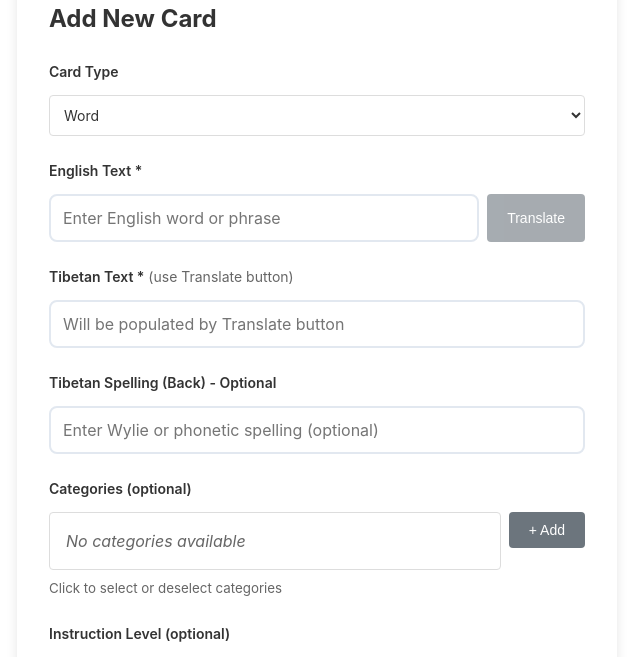
Scenario: AddCardForm › Image Generation - User Story 1 › Button disabled state › enables buttons when text is entered
Select "Word" in the dropdown labelled "Card Type": {"x": 317, "y": 116} [49, 95, 585, 136]
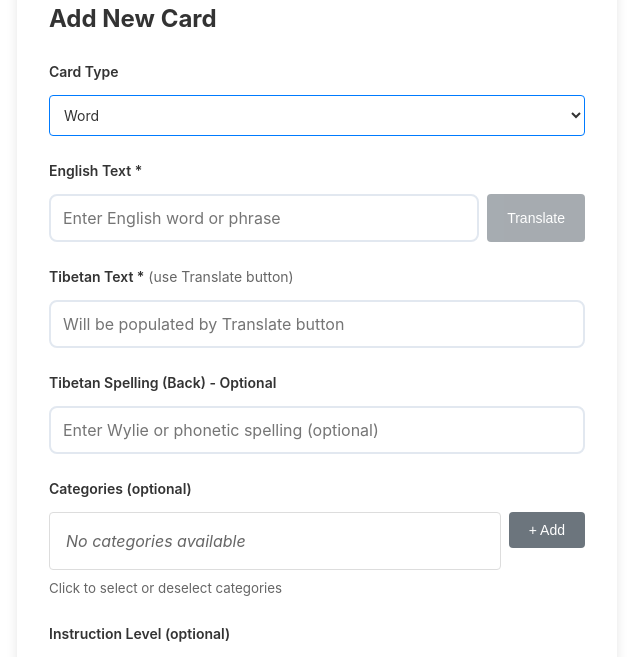
In the field labelled "English Text *": {"x": 264, "y": 218} [49, 194, 479, 242], type "test"
(page scrolled)
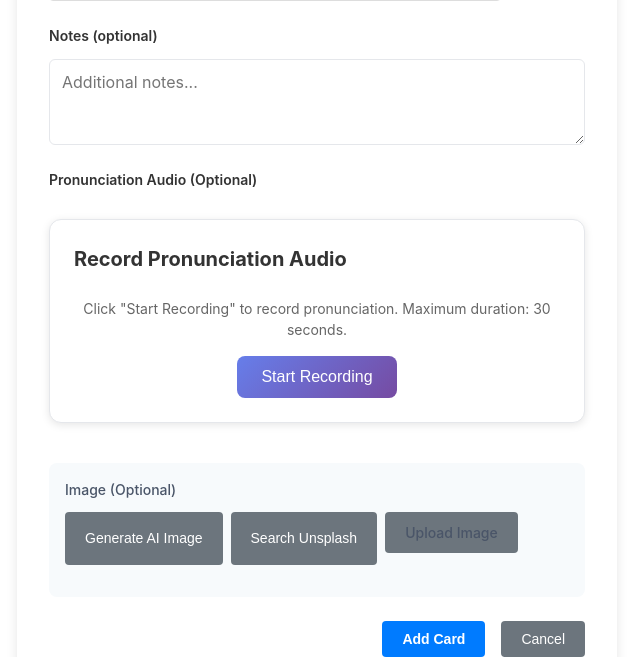
Expected: the button "Generate AI Image" is enabled, [65, 512, 222, 565]
Expected: the button "Search Unsplash" is enabled, [230, 512, 377, 565]
